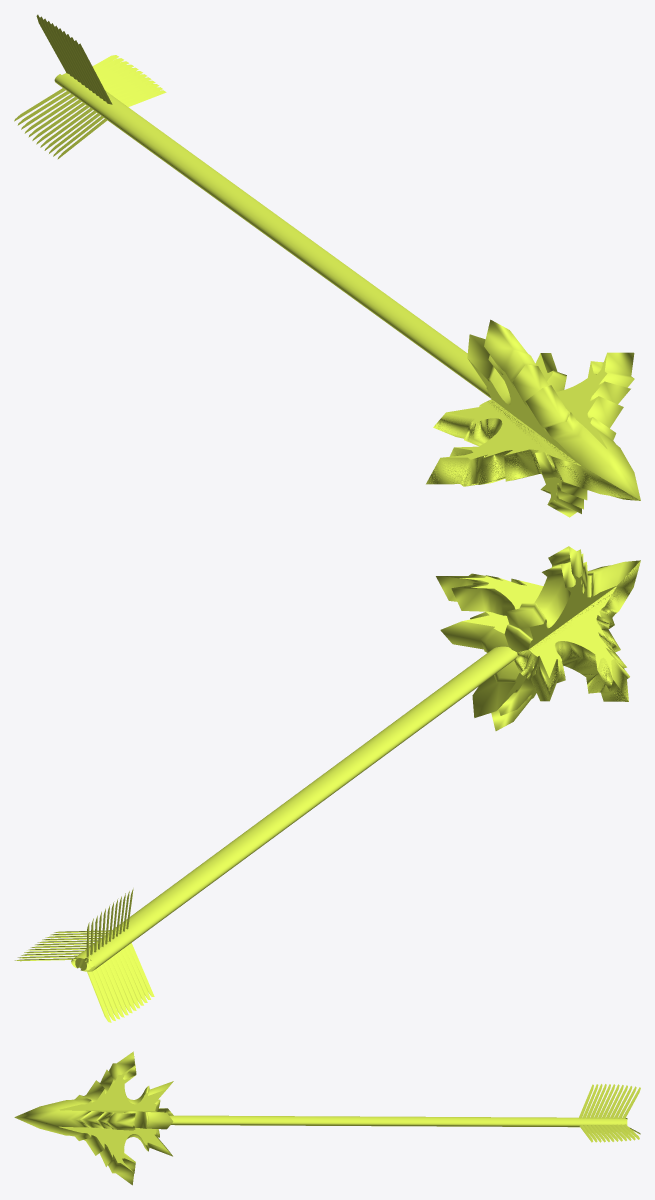
The model's file is herculesArrow.fbx.
3 views of the same model, one above another, from view 1: azimuth 30°, elevation 25°; view 2: azimuth 150°, elevation 25°; view 3: azimuth 270°, elevation 25° (orthographic). The views are drawn at different scales.
Parts seen in each view (by area): view 1: polySurface1176; view 2: polySurface1176; view 3: polySurface1176.
Boxes of the visible parts, left/top/right/bottom form: polySurface1176: left=14, top=14, right=640, bottom=517; polySurface1176: left=14, top=546, right=640, bottom=1022; polySurface1176: left=14, top=1051, right=640, bottom=1185.
Size of the model in its own units: 3.08 by 3.08 by 15.33.
1 material, 1 textured.
